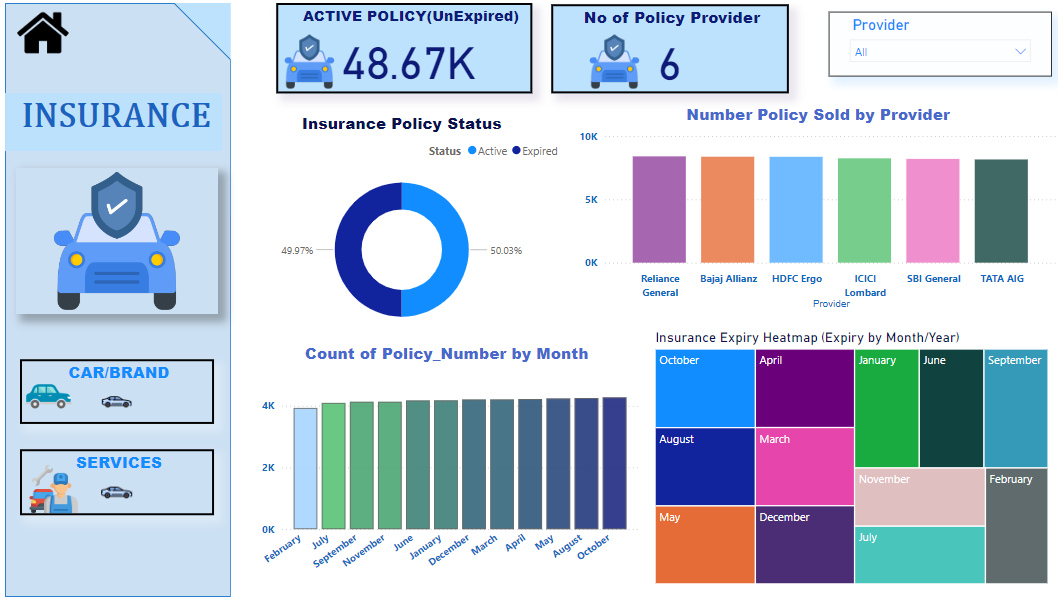

What the dashboard file says about the page in this screenshot:
{"tool":"powerbi","page":{"name":"INSURANCE","canvas":[1280,720],"ordinal":3},"visuals":[{"type":"donutChart","title":"Insurance Policy Status","fields":{"Category":["public cars_master_data_sql.Status"],"Y":["Count(public cars_master_data_sql.Policy_Number)"]},"box":[281.5,132.3,398.5,278.5],"z":0},{"type":"columnChart","title":"Number Policy Sold by Provider","fields":{"Category":["public cars_master_data_sql.Provider"],"Y":["Count(public cars_master_data_sql.Policy_Number)"]},"box":[690.8,121.5,589.2,255.4],"z":1000},{"type":"treemap","title":"Insurance Expiry Heatmap (Expiry by Month/Year)","fields":{"Group":["public cars_master_data_sql.Expiry_Date.Variation.Date Hierarchy.Year","public cars_master_data_sql.Expiry_Date.Variation.Date Hierarchy.Month"],"Values":["CountNonNull(public cars_master_data_sql.Policy_Number)"]},"box":[783.1,395.4,486.2,313.8],"z":2000},{"type":"card","title":"No of Policy Provider","fields":{"Values":["Count(public cars_master_data_sql.Provider)"]},"box":[661.5,1.5,287.7,107.7],"z":3000},{"type":"image","box":[680,33.8,116.9,75.4],"z":4000},{"type":"shape","box":[0,0,273.8,720],"z":5000},{"type":"image","box":[13.8,200,244.6,176.9],"z":6000},{"type":"textbox","box":[0,109.2,263.1,70.8],"z":7000},{"type":"image","box":[7.7,0,76.9,72.3],"z":8000},{"type":"image","title":"CAR/BRAND","box":[18.5,432.3,235.4,78.5],"z":9000},{"type":"image","title":"SERVICES","box":[18.5,541.5,235.4,80],"z":10000},{"type":"image","box":[18.5,552.3,81.5,72.3],"z":11000},{"type":"image","box":[13.8,444.6,78.5,66.2],"z":12000},{"type":"slicer","fields":{"Values":["public cars_master_data_sql.Provider"]},"box":[998.5,10.8,270.8,78.5],"z":13000},{"type":"clusteredColumnChart","fields":{"Category":["public cars_master_data_sql.Expiry_Date.Variation.Date Hierarchy.Month"],"Y":["CountNonNull(public cars_master_data_sql.Policy_Number)"]},"box":[298.5,410.8,473.8,295.4],"z":14000},{"type":"card","title":"ACTIVE POLICY(UnExpired)","fields":{"Values":["Count(public cars_master_data_sql.Policy_Number)"]},"box":[329.2,0,310.8,109.2],"z":15000},{"type":"image","box":[310.1,33.3,117.4,75.4],"z":15001}]}

Visuals, with their boxes in screenshot pixels (x1, y1, x2, y2), scaled from the page's 1280x720 canvas onto the 1058x601 screenshot:
"Insurance Policy Status" donutChart: 233,110,562,343
"Number Policy Sold by Provider" columnChart: 571,101,1057,315
"Insurance Expiry Heatmap (Expiry by Month/Year)" treemap: 647,330,1049,592
"No of Policy Provider" card: 547,1,785,91
image: 562,28,659,91
shape: 0,0,226,600
image: 11,167,214,315
textbox: 0,91,217,150
image: 6,0,70,60
"CAR/BRAND" image: 15,361,210,426
"SERVICES" image: 15,452,210,519
image: 15,461,83,521
image: 11,371,76,426
slicer - public cars_master_data_sql.Provider: 825,9,1049,75
clusteredColumnChart - public cars_master_data_sql.Expiry_Date.Variation.Date Hierarchy.Month x CountNonNull(public cars_master_data_sql.Policy_Number): 247,343,638,589
"ACTIVE POLICY(UnExpired)" card: 272,0,529,91
image: 256,28,353,91
